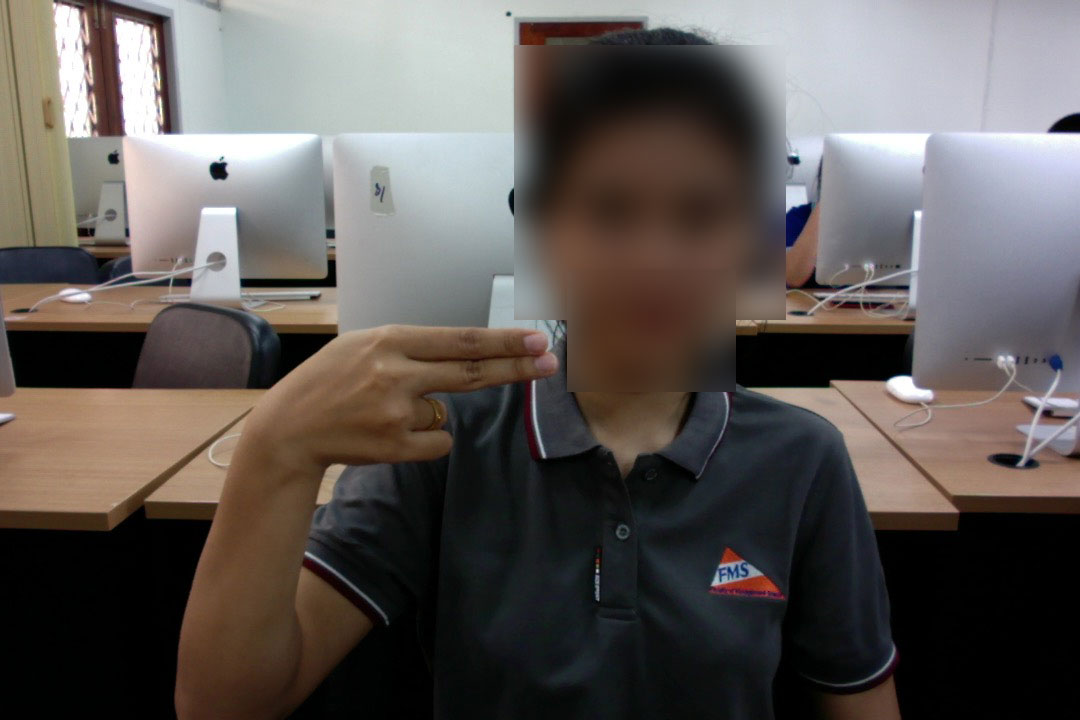hor: (234, 316, 571, 475)
